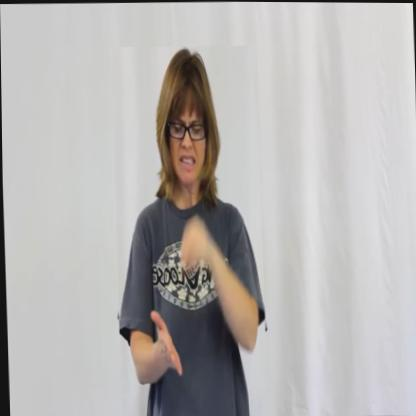Expensive: (110, 44, 267, 416)
